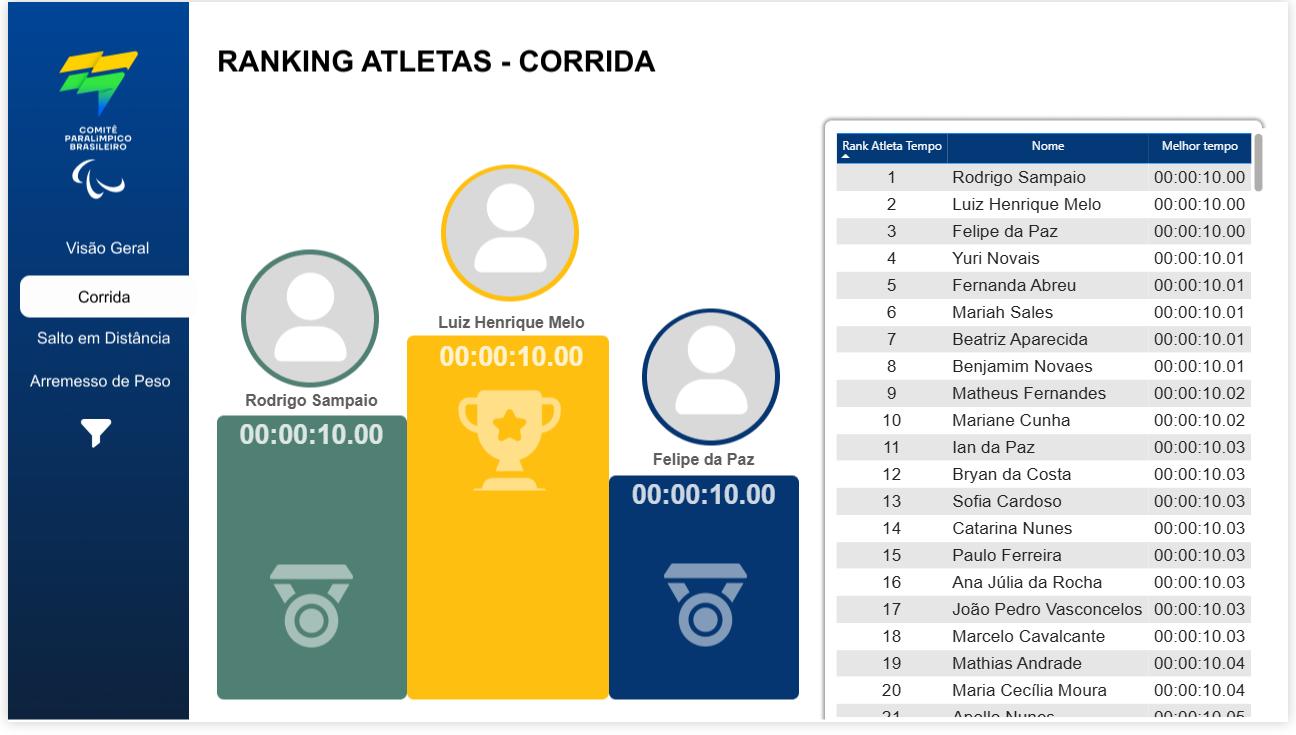

The page's visual inventory and layout, read from the dashboard file:
{"tool":"powerbi","page":{"name":"Ranking Corrida","canvas":[1280,720],"ordinal":1},"visuals":[{"type":"tableEx","fields":{"Values":["_medidas.rank_atleta_tempo","D_atletas.nome","_medidas.melhor tempo formatado"]},"box":[822.5,126.2,437.5,593.8],"z":0},{"type":"cardVisual","fields":{"Data":["_medidas.top 1 tempo"]},"box":[187.5,369.2,232.5,101.7],"z":1000},{"type":"cardVisual","fields":{"Data":["_medidas.top 2 tempo"]},"box":[397.7,290.7,212.8,100],"z":2000},{"type":"cardVisual","fields":{"Data":["_medidas.top 3 tempo"]},"box":[590.9,408.2,210,140.9],"z":3000},{"type":"actionButton","box":[21.1,226.7,158.9,40],"z":4000},{"type":"actionButton","box":[13.3,316.7,167.8,40],"z":5000},{"type":"actionButton","box":[13.3,356.7,167.8,46.7],"z":6000},{"type":"image","box":[52.9,412.9,71.4,35.7],"z":7000},{"type":"actionButton","box":[317,10,46,40],"z":9000},{"type":"actionButton","box":[298.8,643.8,55,53.8],"z":10000}]}

Visuals, with their boxes on the page's 1280x720 design canvas (x1, y1, x2, y2). These are canvas units, not pixel positions in the 1296x735 screenshot, which may show the page scaled, cropped or inside an application window:
tableEx - _medidas.rank_atleta_tempo x D_atletas.nome: BBox(822, 126, 1260, 720)
cardVisual - _medidas.top 1 tempo: BBox(188, 369, 420, 471)
cardVisual - _medidas.top 2 tempo: BBox(398, 291, 610, 391)
cardVisual - _medidas.top 3 tempo: BBox(591, 408, 801, 549)
actionButton: BBox(21, 227, 180, 267)
actionButton: BBox(13, 317, 181, 357)
actionButton: BBox(13, 357, 181, 403)
image: BBox(53, 413, 124, 449)
actionButton: BBox(317, 10, 363, 50)
actionButton: BBox(299, 644, 354, 698)
